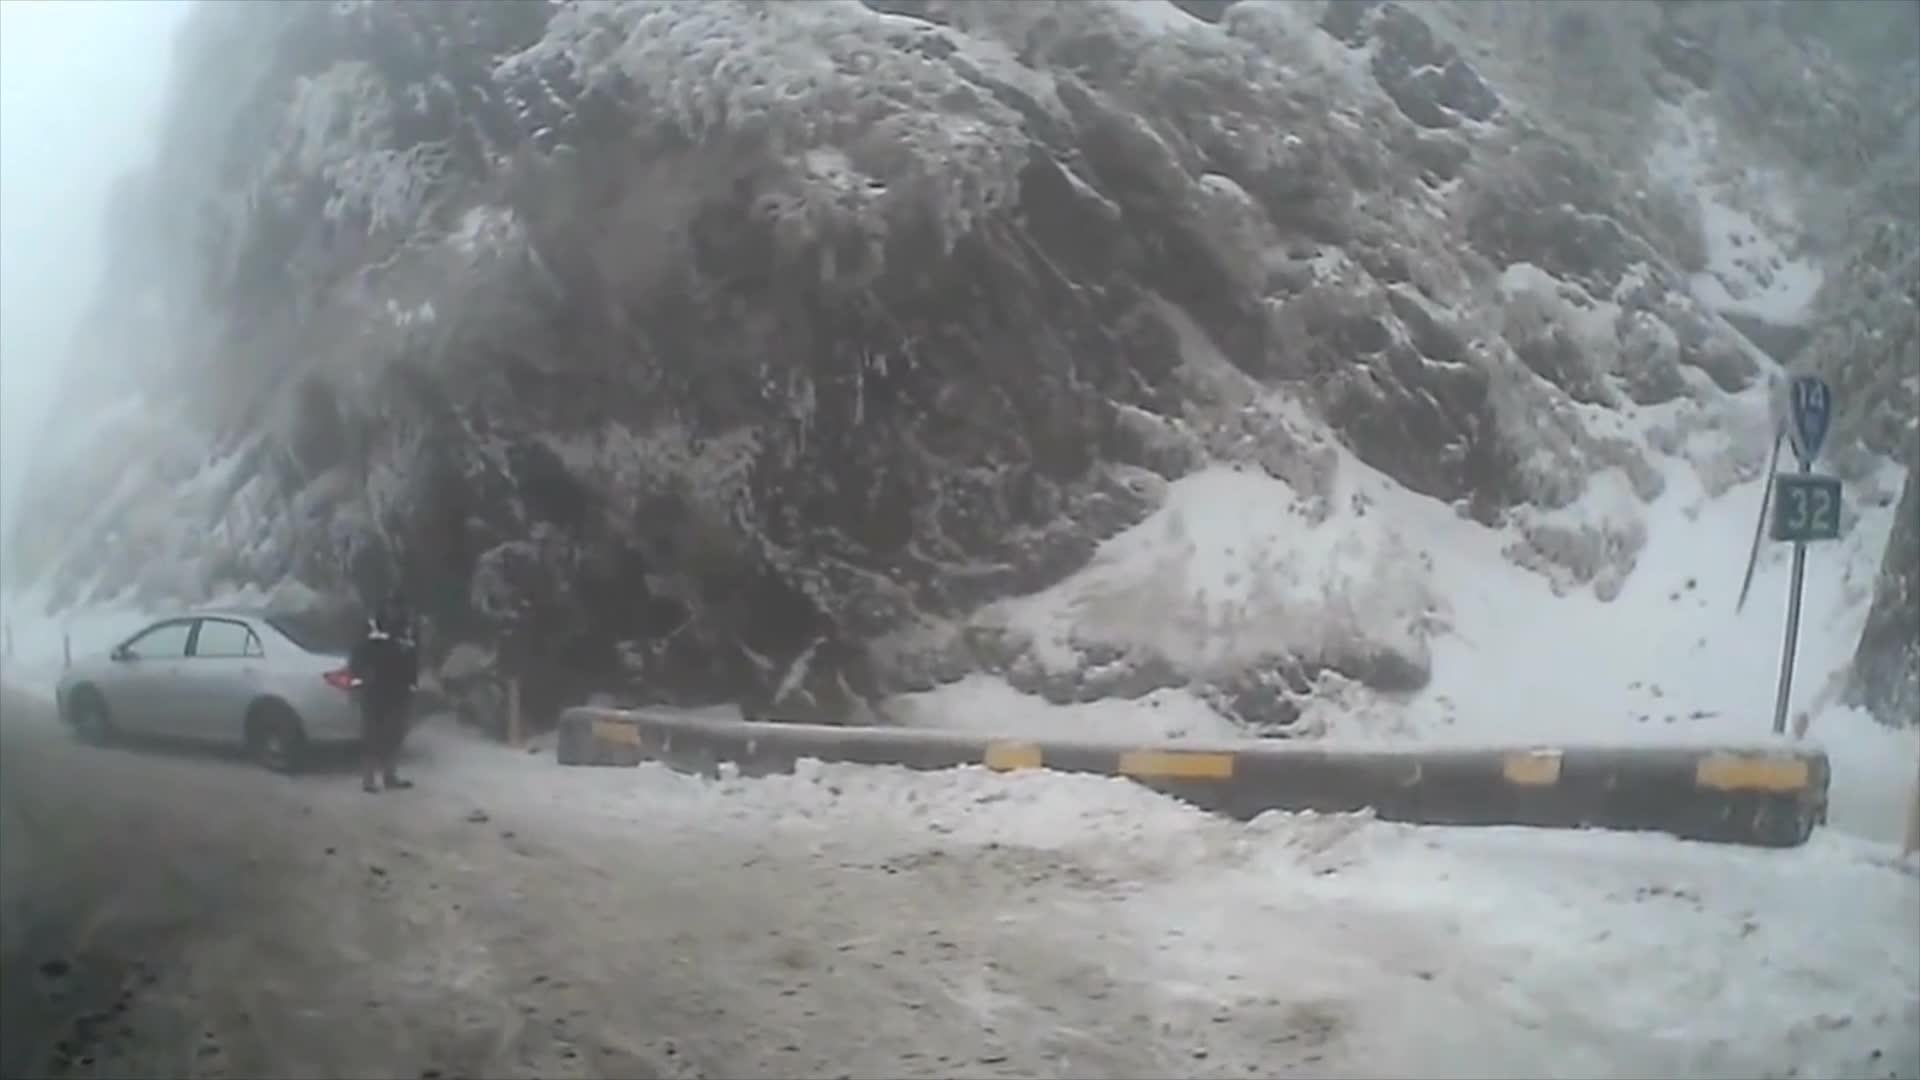pedestrian: (345, 586, 417, 789)
vehicle: (53, 603, 412, 775)
